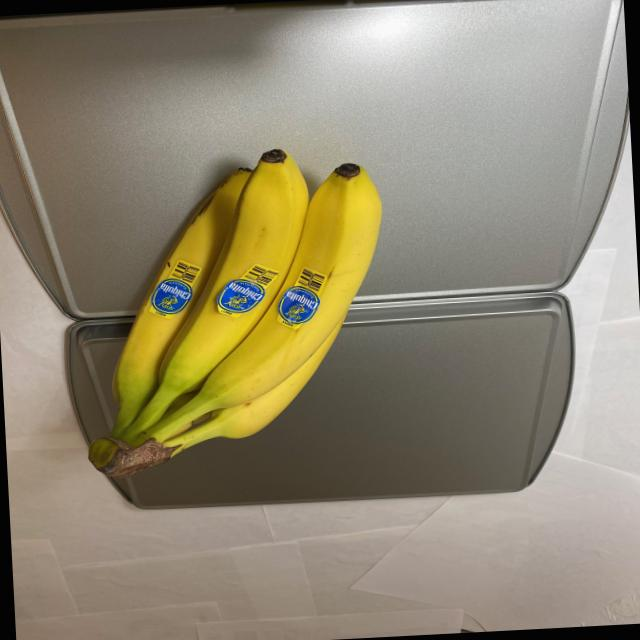banana: (61, 136, 401, 485)
